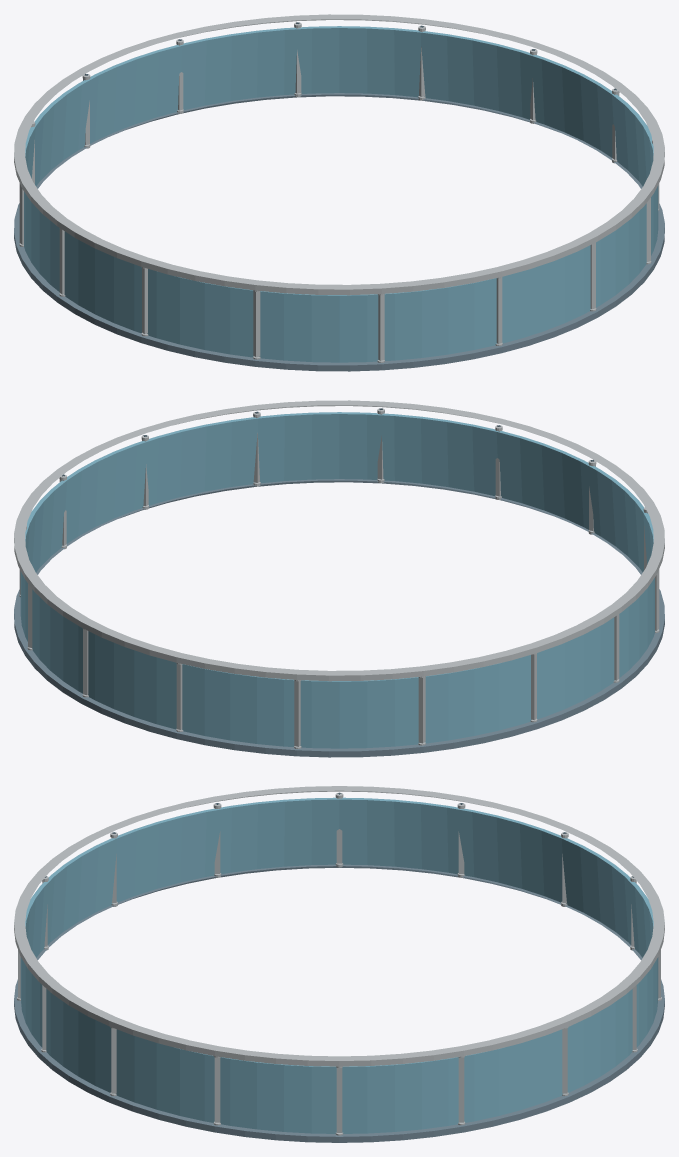
Rendered from 37_L73_TransparentSlurrySplashGuard.glb.
The picture shows the model from 3 angles, top to bottom: view 1: azimuth 30°, elevation 25°; view 2: azimuth 150°, elevation 25°; view 3: azimuth 270°, elevation 25°; orthographic projection.
Visible parts, largest first — view 1: TransparentSlurrySplashGuard_Node_0000, TransparentSlurrySplashGuard_Node_0001, TransparentSlurrySplashGuard_Node_0002, TransparentSlurrySplashGuard_Node_0045; view 2: TransparentSlurrySplashGuard_Node_0000, TransparentSlurrySplashGuard_Node_0001, TransparentSlurrySplashGuard_Node_0002, TransparentSlurrySplashGuard_Node_0073; view 3: TransparentSlurrySplashGuard_Node_0000, TransparentSlurrySplashGuard_Node_0001, TransparentSlurrySplashGuard_Node_0002.
Part boxes in pixels (x1,y1,x2,y2): TransparentSlurrySplashGuard_Node_0000: (24,26,658,362); TransparentSlurrySplashGuard_Node_0001: (14,14,664,295); TransparentSlurrySplashGuard_Node_0002: (14,93,664,371); TransparentSlurrySplashGuard_Node_0045: (253,291,260,357); TransparentSlurrySplashGuard_Node_0000: (20,412,654,748); TransparentSlurrySplashGuard_Node_0001: (14,400,664,681); TransparentSlurrySplashGuard_Node_0002: (14,479,664,757); TransparentSlurrySplashGuard_Node_0073: (418,677,425,743); TransparentSlurrySplashGuard_Node_0000: (20,797,658,1133); TransparentSlurrySplashGuard_Node_0001: (14,786,664,1066); TransparentSlurrySplashGuard_Node_0002: (14,864,664,1142).
Bounding box in the file's own units: 5.82 × 0.8075 × 5.82.
